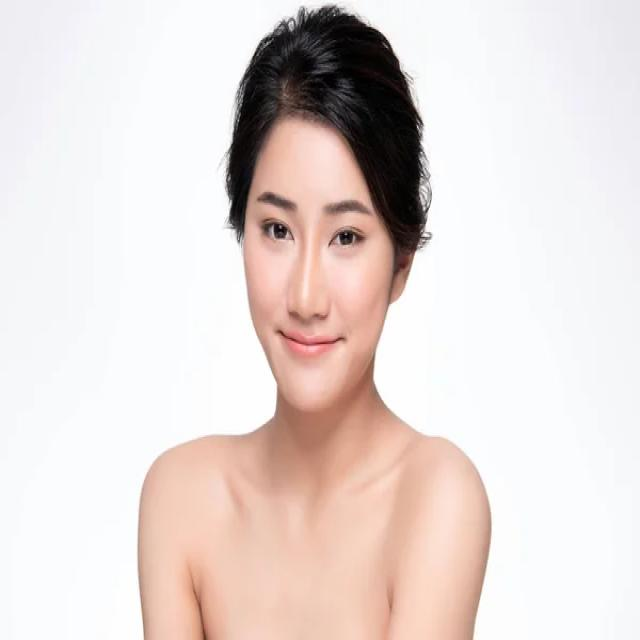Nonhelmet: (220, 12, 423, 416)
